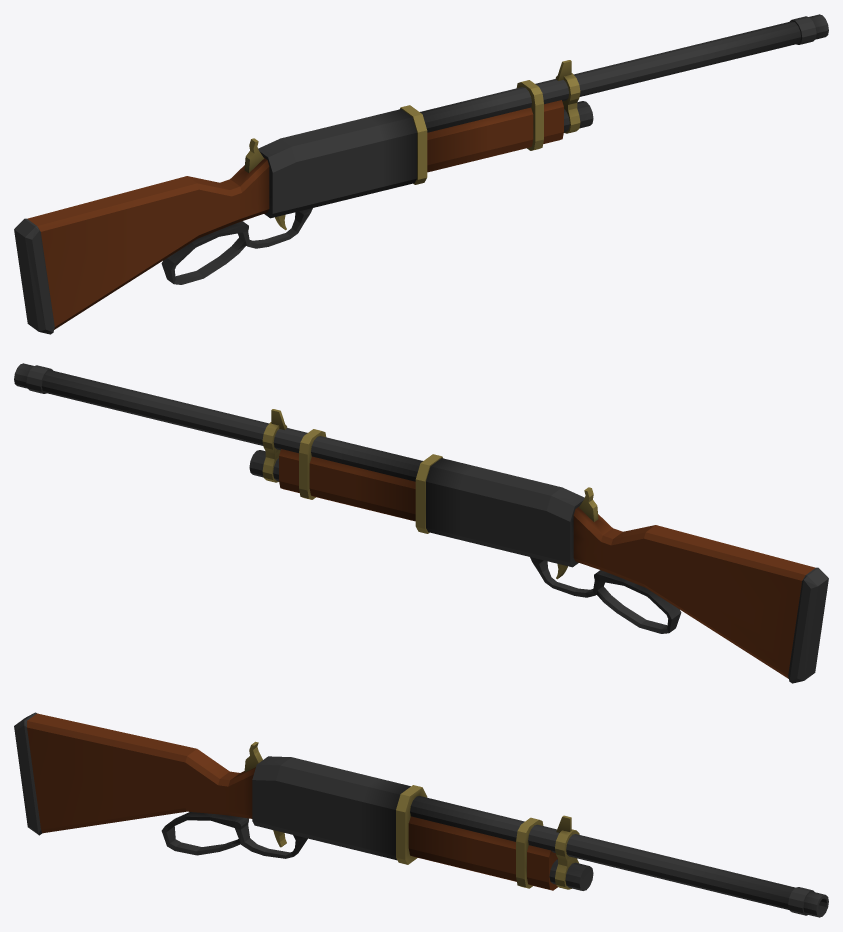
Rendered from v-lever-rifles-long.glb.
The picture shows the model from 3 angles, top to bottom: view 1: azimuth 30°, elevation 25°; view 2: azimuth 150°, elevation 25°; view 3: azimuth 330°, elevation 25°; orthographic projection.
Visible parts, largest first — view 1: front (×3), receiver (×2), stock (×2), grip (×2); view 2: front (×3), receiver (×2), stock (×2), grip (×2); view 3: front (×3), receiver (×3), stock (×2), grip (×2).
Boxes of the visible parts, bbox=[...] form: front (×3): bbox=[366, 14, 828, 191]; receiver (×2): bbox=[124, 117, 382, 278]; stock (×2): bbox=[14, 193, 135, 334]; grip (×2): bbox=[150, 231, 209, 284]; front (×3): bbox=[14, 363, 476, 540]; receiver (×2): bbox=[460, 466, 718, 627]; stock (×2): bbox=[707, 542, 828, 683]; grip (×2): bbox=[633, 580, 692, 633]; front (×3): bbox=[361, 778, 828, 917]; receiver (×3): bbox=[122, 735, 376, 858]; stock (×2): bbox=[14, 712, 133, 835]; grip (×2): bbox=[138, 795, 205, 855].
Bounding box in the file's own units: 0.99 × 0.167 × 0.0468.
